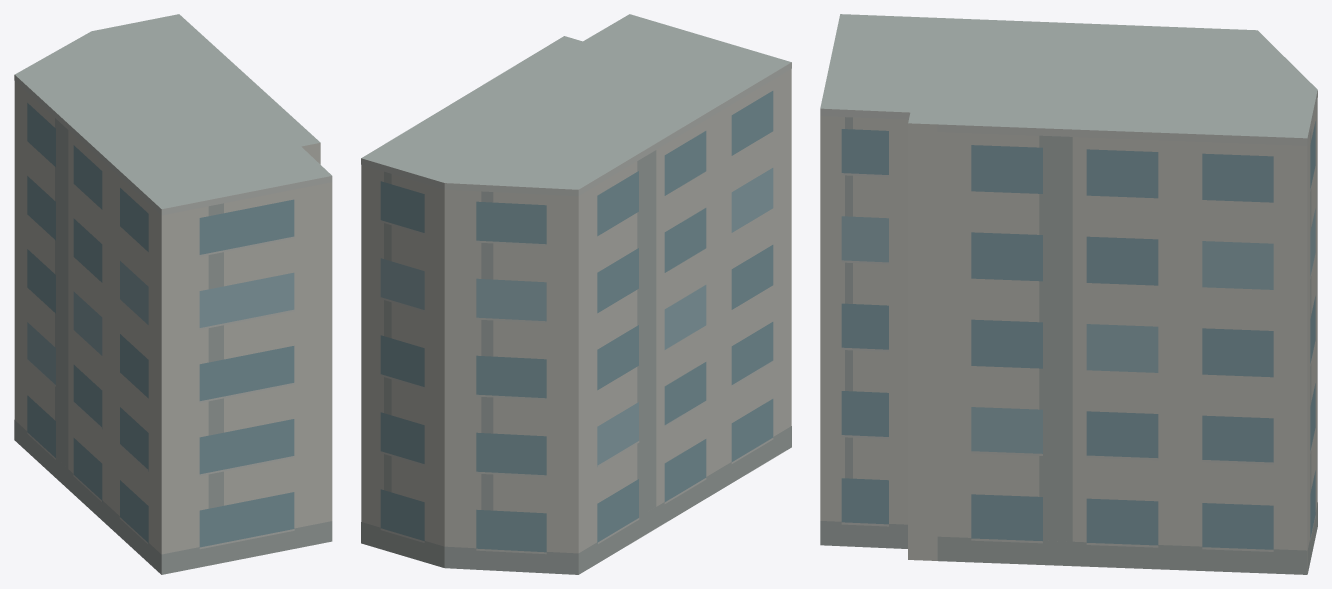
The model's file is survey-upis-33016504.glb.
3 renders of one model, left to right at view 1: azimuth 30°, elevation 25°; view 2: azimuth 150°, elevation 25°; view 3: azimuth 270°, elevation 25°, orthographic. The views are drawn at different scales.
Parts seen in each view (by area): view 1: survey-upis-33016504.tmp; view 2: survey-upis-33016504.tmp; view 3: survey-upis-33016504.tmp.
Part boxes in pixels (x1,y1,x2,y2): survey-upis-33016504.tmp: [14, 14, 332, 574]; survey-upis-33016504.tmp: [361, 14, 791, 574]; survey-upis-33016504.tmp: [820, 14, 1317, 574].
Bounding box in the file's own units: 8.74 × 14.3 × 14.78.
